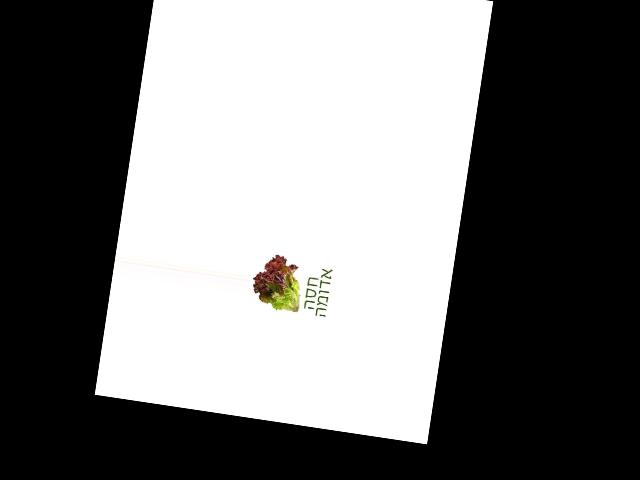lettuce: (248, 250, 308, 319)
